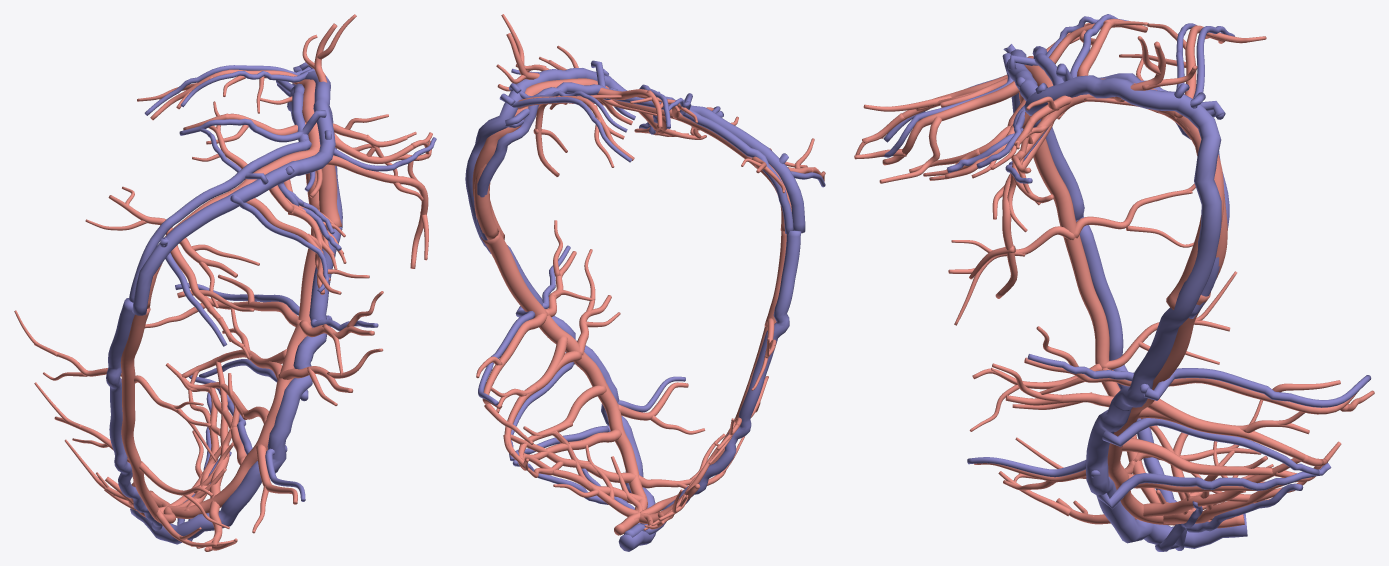
The model's file is vessels_33.glb.
3 views of the same model, side by side, from view 1: azimuth 30°, elevation 25°; view 2: azimuth 150°, elevation 25°; view 3: azimuth 270°, elevation 25° (orthographic). The views are drawn at different scales.
Parts seen in each view (by area): view 1: Renderer Node; view 2: Renderer Node; view 3: Renderer Node.
Boxes of the visible parts, left/top/right/bottom form: Renderer Node: left=14, top=14, right=436, bottom=551; Renderer Node: left=465, top=14, right=825, bottom=551; Renderer Node: left=854, top=14, right=1374, bottom=551.
Size of the model in its own units: 87.64 by 119 by 91.36.
